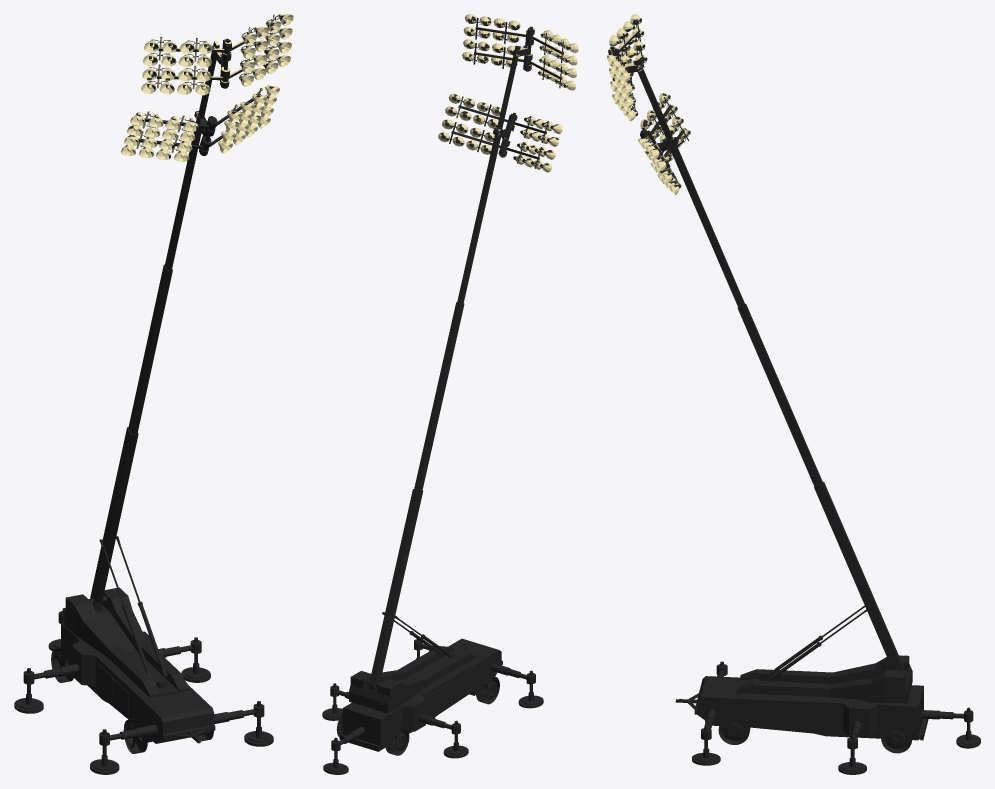
The model's file is light_tower_1.obj.
3 views of the same model, side by side, from view 1: azimuth 30°, elevation 25°; view 2: azimuth 150°, elevation 25°; view 3: azimuth 270°, elevation 25° (orthographic). The views are drawn at different scales.
Parts seen in each view (by area): view 1: light_tower.001; view 2: light_tower.001; view 3: light_tower.001.
Part boxes in pixels (x1,y1,x2,y2): light_tower.001: [14, 14, 293, 774]; light_tower.001: [322, 14, 578, 774]; light_tower.001: [607, 14, 980, 774].
Bounding box in the file's own units: 1.43 × 5.53 × 2.74.
1 material, 1 textured.
